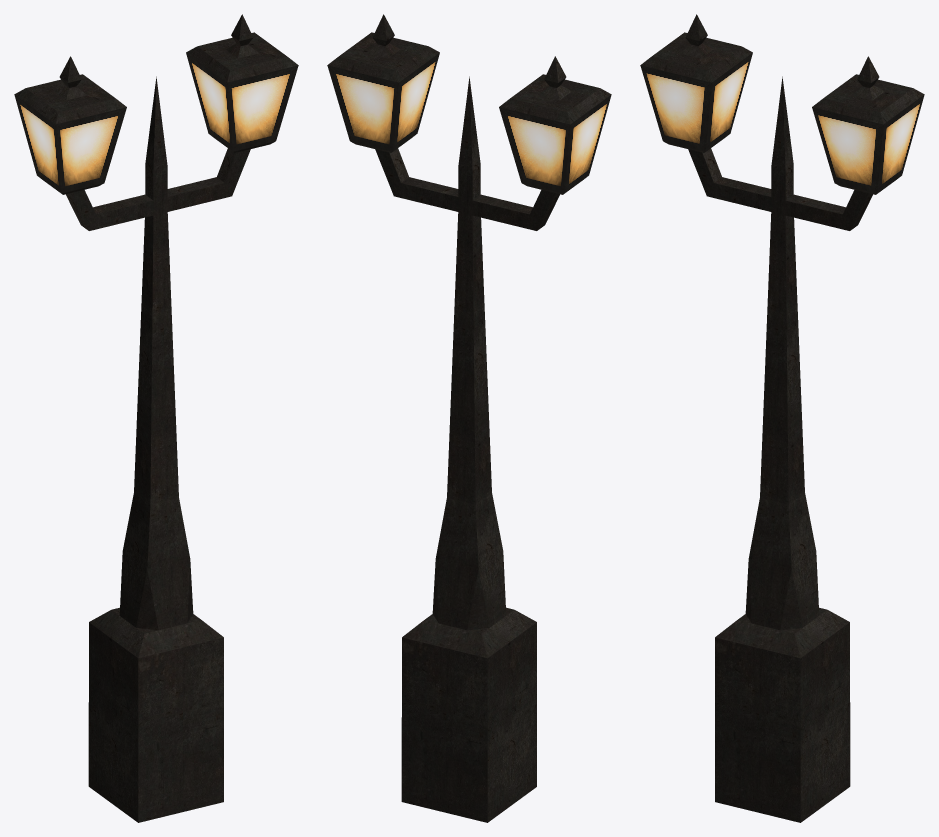
Rendered from streetlamp.gltf.
The picture shows the model from 3 angles, left to right: view 1: azimuth 30°, elevation 25°; view 2: azimuth 150°, elevation 25°; view 3: azimuth 330°, elevation 25°; orthographic projection.
Parts seen in each view (by area): view 1: lamppole, lampglass; view 2: lamppole, lampglass; view 3: lamppole, lampglass.
Part boxes in pixels (<box>): lamppole: <box>14,14,298,822</box>; lampglass: <box>14,53,298,193</box>; lamppole: <box>327,14,611,822</box>; lampglass: <box>327,53,611,193</box>; lamppole: <box>640,14,924,822</box>; lampglass: <box>640,53,924,193</box>.
Bounding box in the file's own units: 68 × 203 × 24.
Materials: 2 (2 with a texture image).
